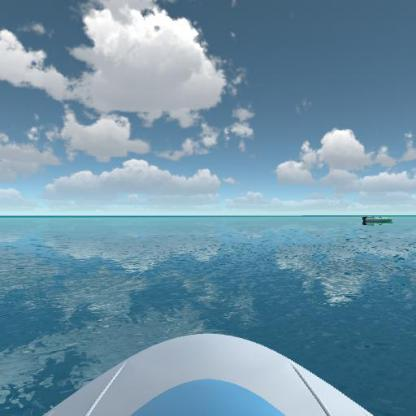usv0: (360, 213, 394, 229)
